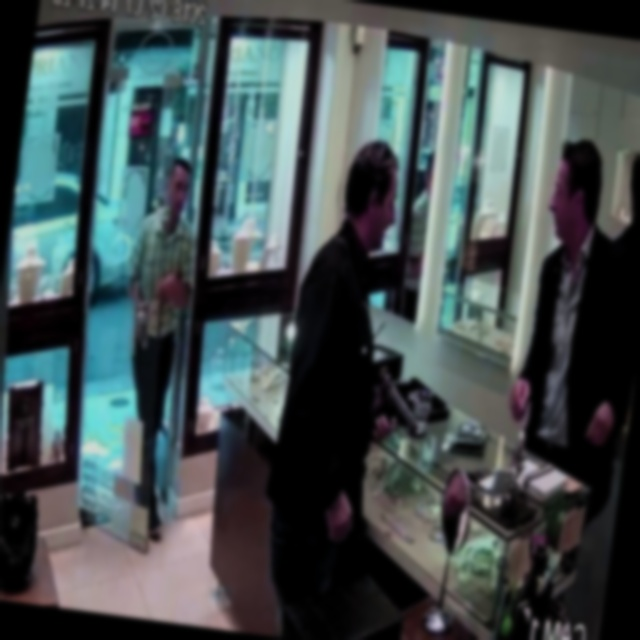gun: (357, 362, 436, 466)
